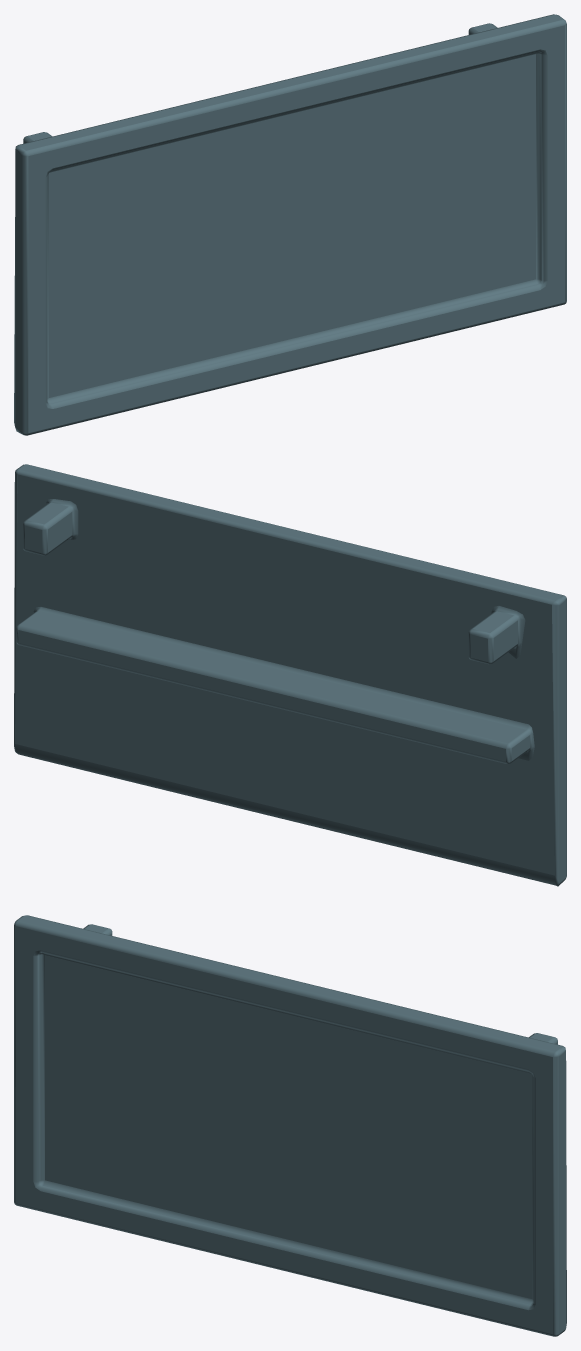
Rendered from SM_Sign_Wall.glb.
3 views of the same model, one above another, from view 1: azimuth 30°, elevation 25°; view 2: azimuth 150°, elevation 25°; view 3: azimuth 330°, elevation 25° (orthographic).
Parts seen in each view (by area): view 1: SM_Sign_Wall; view 2: SM_Sign_Wall; view 3: SM_Sign_Wall.
Boxes of the visible parts, box(x1,y1,x2,y2) form: SM_Sign_Wall: box(14, 14, 566, 435); SM_Sign_Wall: box(14, 464, 566, 886); SM_Sign_Wall: box(14, 915, 566, 1336).
Size of the model in its own units: 1.1 by 0.551 by 0.14.
